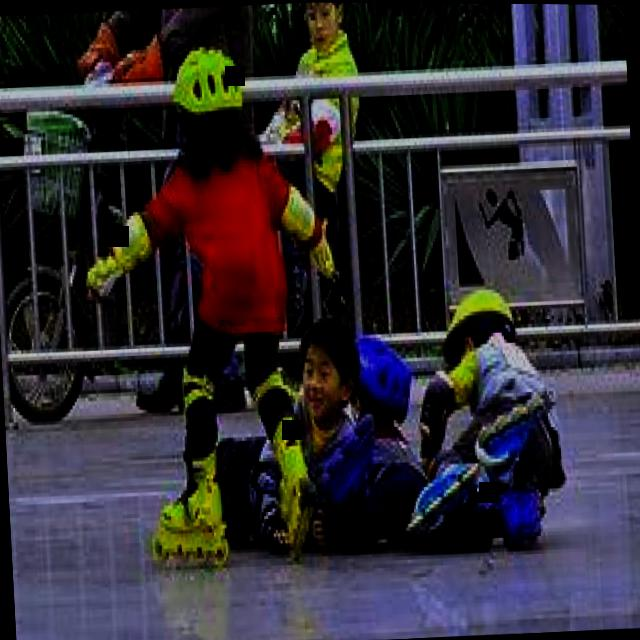Fall-Detected: (138, 296, 386, 576)
